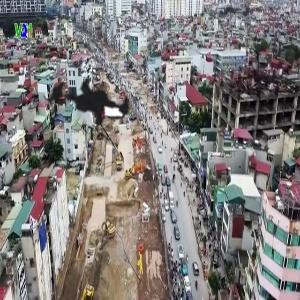drone: (21, 44, 154, 177)
